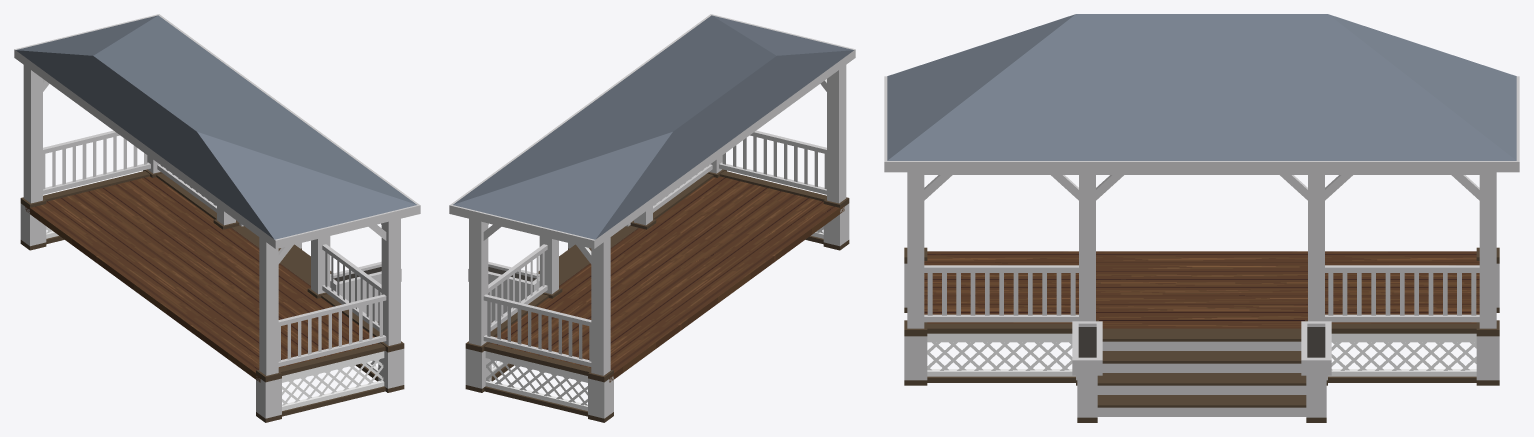
File: SM_veranda_01.glb
3 views of the same model, side by side, from view 1: azimuth 30°, elevation 25°; view 2: azimuth 150°, elevation 25°; view 3: azimuth 270°, elevation 25° (orthographic). The views are drawn at different scales.
Visible parts, largest first — view 1: SM_veranda_01; view 2: SM_veranda_01; view 3: SM_veranda_01.
Boxes of the visible parts, x1=… form: SM_veranda_01: x1=14, y1=14, x2=420, y2=422; SM_veranda_01: x1=449, y1=14, x2=855, y2=422; SM_veranda_01: x1=884, y1=14, x2=1519, y2=422.
Bounding box in the file's own units: 5.03 × 5.6 × 11.1.
2 materials, 2 textured.
